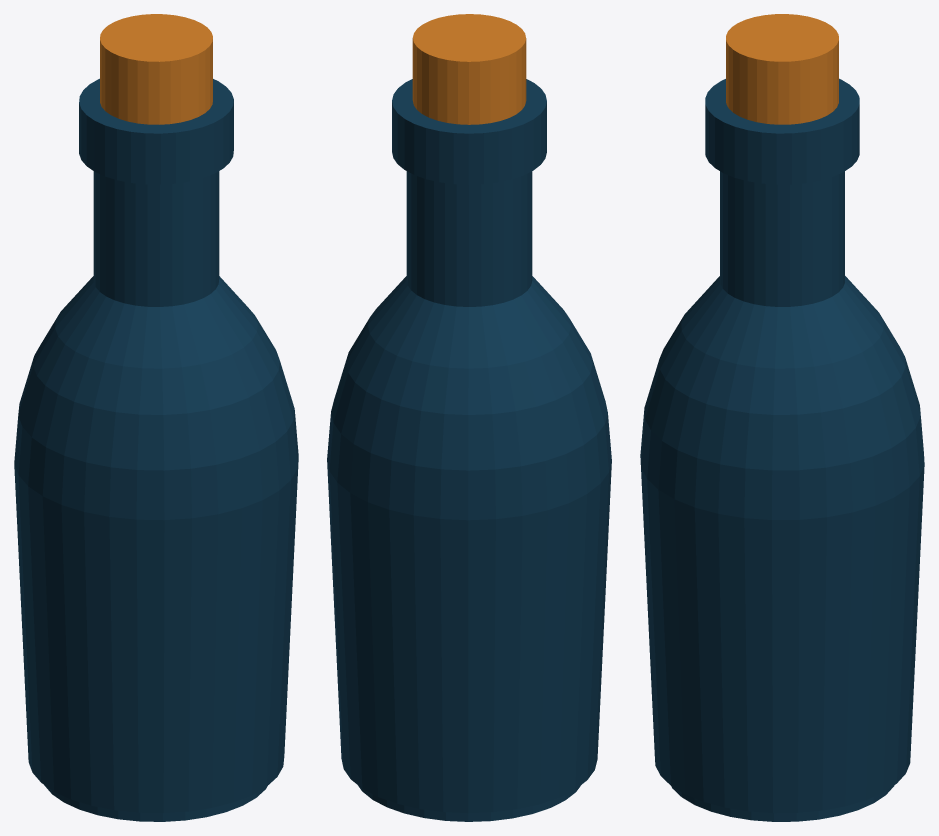
Rendered from Prop_Laboratorio_botella4.fbx.
The picture shows the model from 3 angles, left to right: view 1: azimuth 30°, elevation 25°; view 2: azimuth 150°, elevation 25°; view 3: azimuth 270°, elevation 25°; orthographic projection.
Parts seen in each view (by area): view 1: Botella3.016; view 2: Botella3.016; view 3: Botella3.016.
Part boxes in pixels (<box>): Botella3.016: <box>14,14,298,821</box>; Botella3.016: <box>327,14,611,821</box>; Botella3.016: <box>640,14,924,821</box>.
Size of the model in its own units: 197 by 564 by 197.
